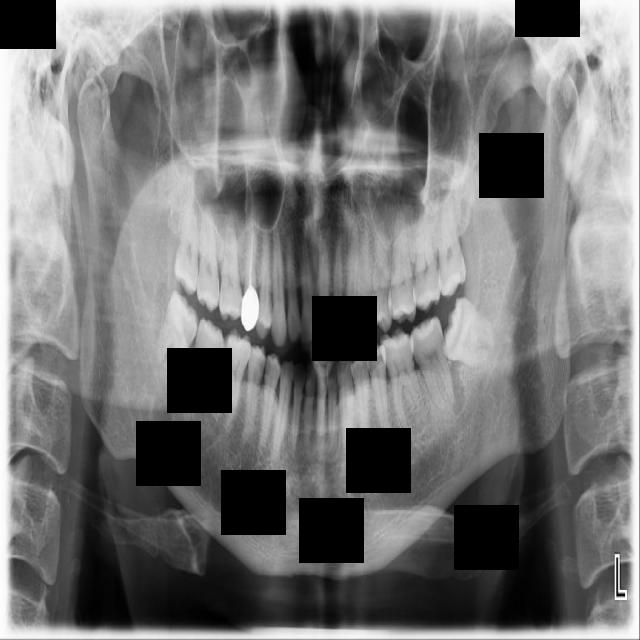3M ESPE Implant: (173, 170, 200, 297)
52: (238, 285, 262, 337)
73: (241, 215, 258, 294), (603, 562, 609, 570)
BioHorizons Implant: (412, 195, 439, 312)
BioLife Implant: (433, 175, 468, 299)
Biomet 3i Implant: (435, 290, 507, 371)
Blue Sky Bio Implant: (405, 314, 460, 421)
Caries: (197, 197, 219, 315)
Implant: (180, 315, 229, 415)
Keystone Dental Implant: (150, 289, 207, 383)
